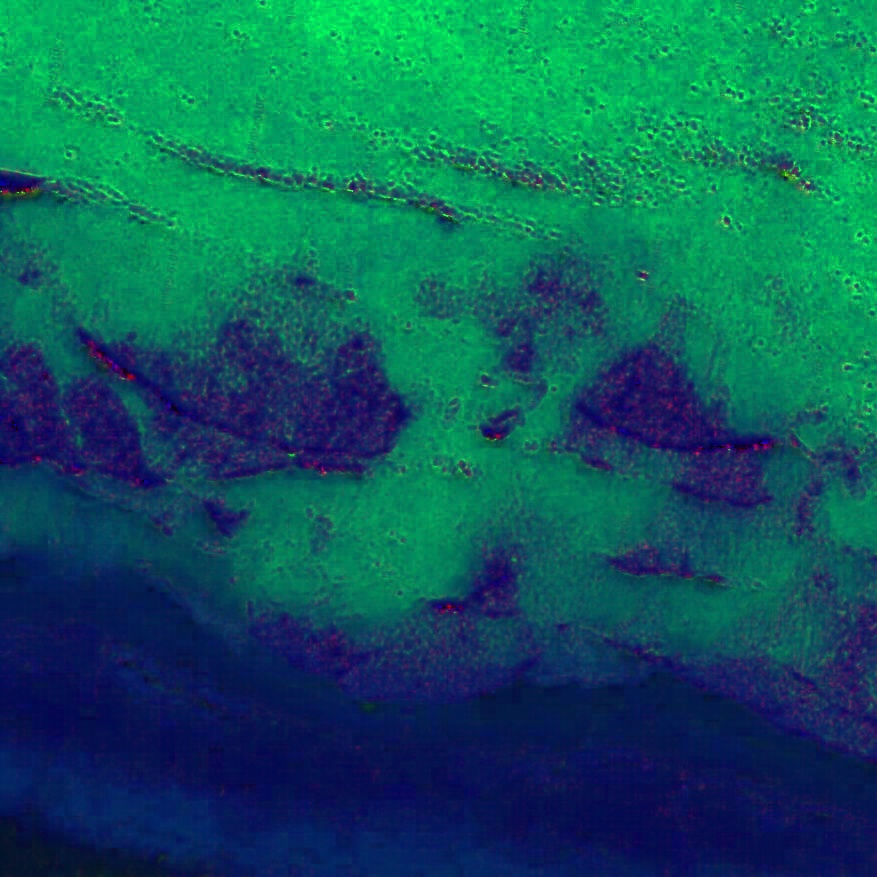rip_current: (299, 204, 550, 677)
